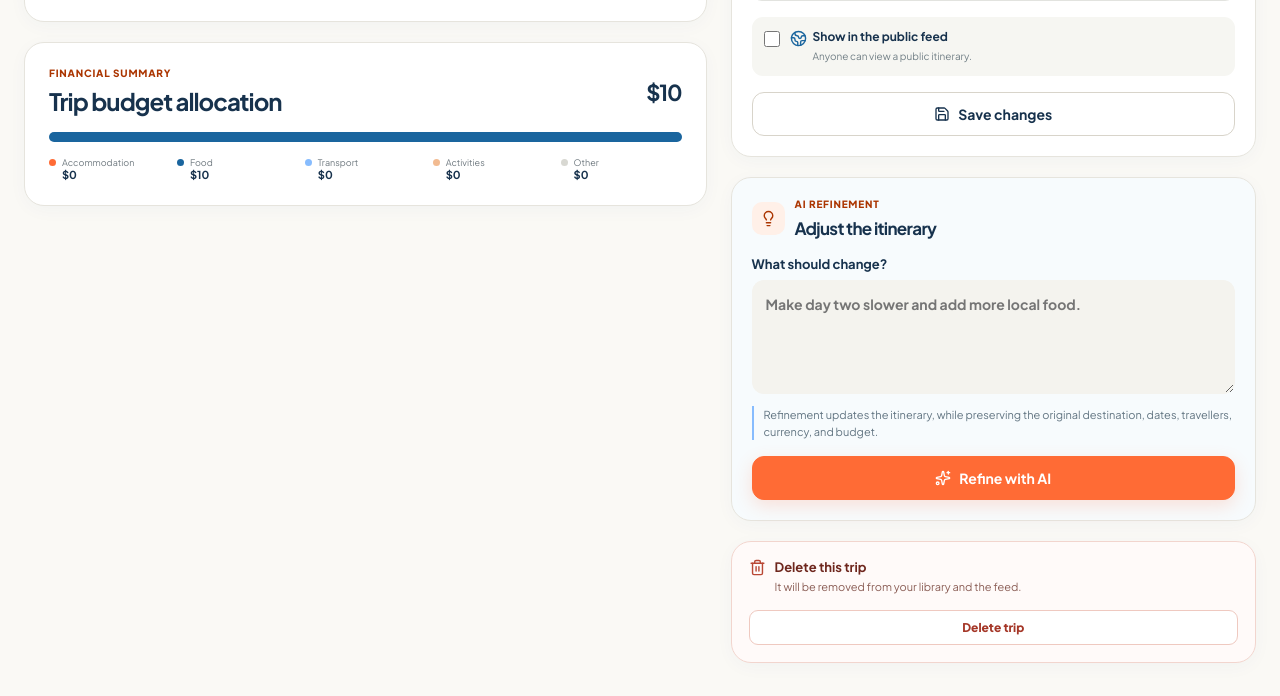
Scenario: SavedTripDetailPage › sends only the refinement instruction to the AI refinement endpoint
(page scrolled)
In the text box labelled "What should change?": coordinates (993, 337) top-left (752, 280), bottom-right (1235, 394), type "Add a calmer evening on day one."
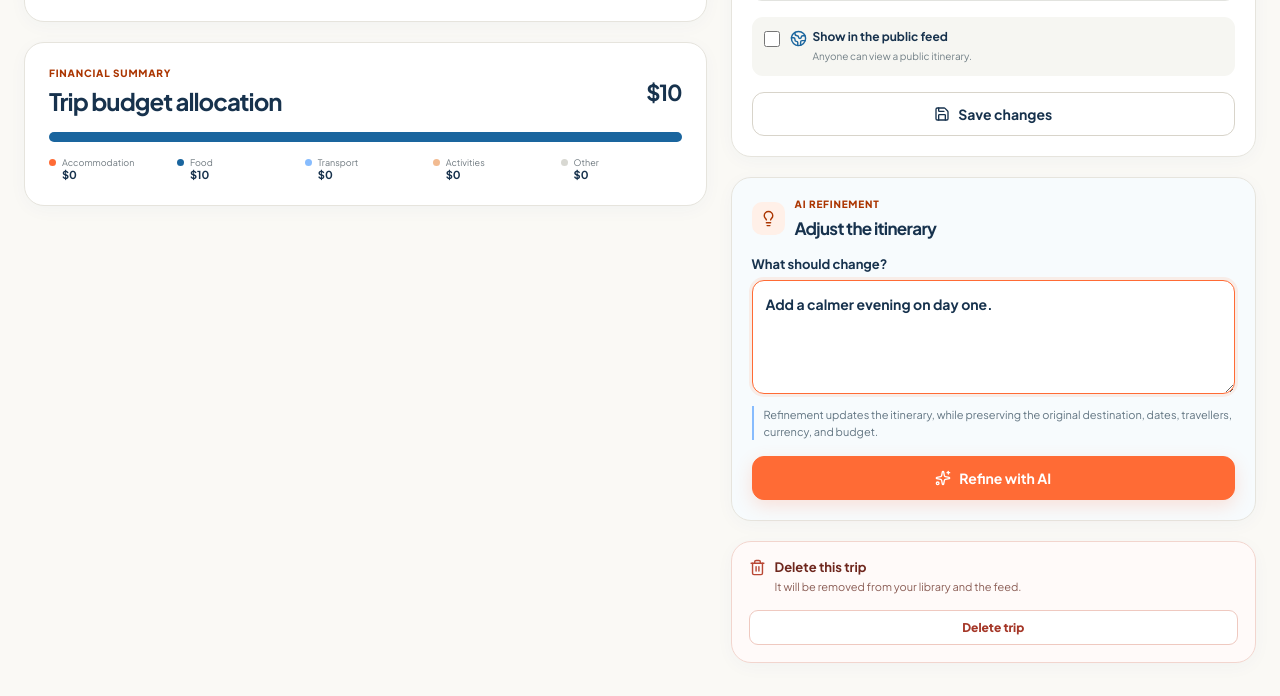
Click the button "Refine with AI": coordinates (993, 478) top-left (752, 456), bottom-right (1235, 500)
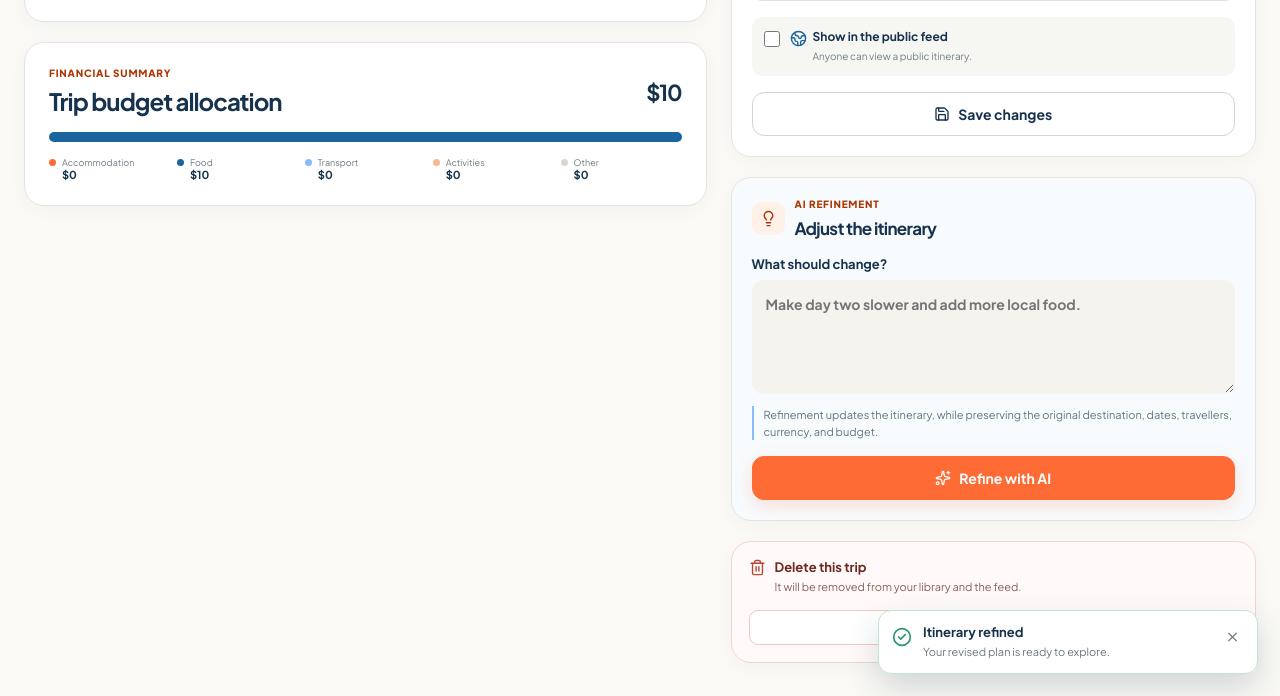
Expected: the message shows "Itinerary refined", top-left (923, 624), bottom-right (1024, 640)
